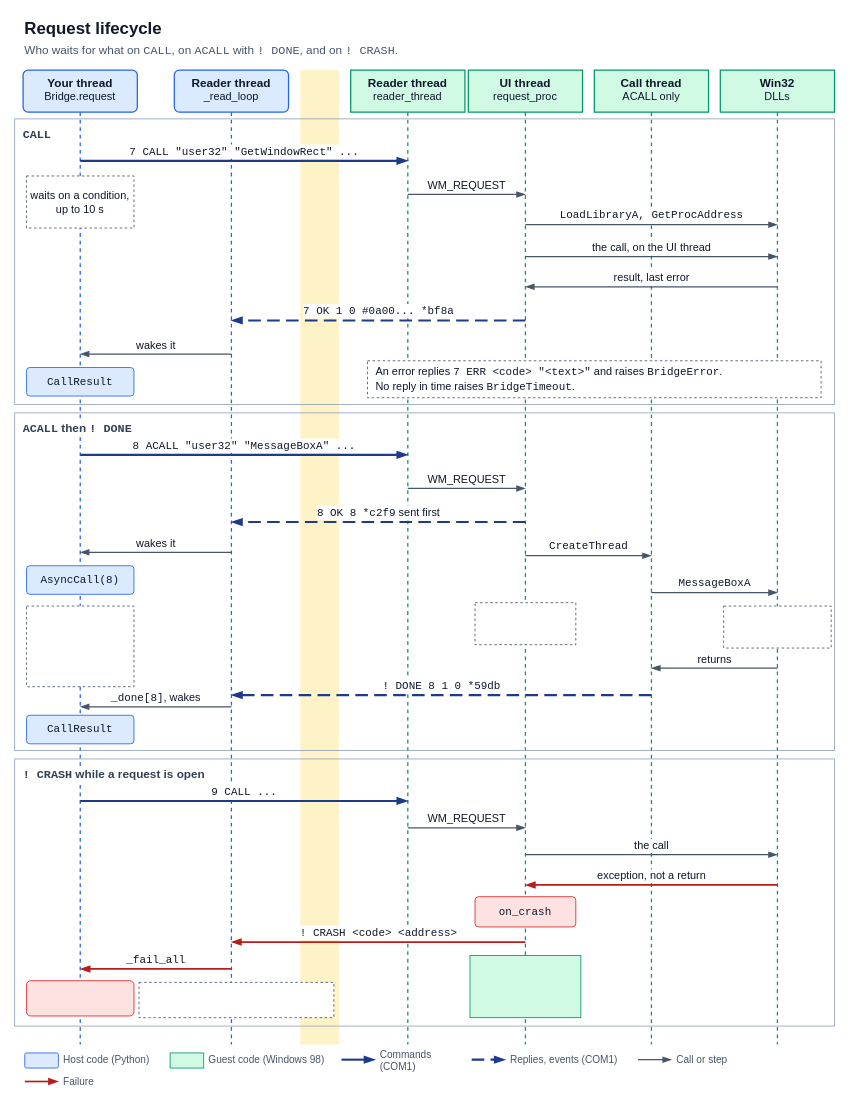
Some shapes in this 850 by 1105 pixel diagram are drawn without their labels. The centre of each missing label's shape, as x and y in pixels:
".done polls, .wait() blocks. The script carries on" belongs at point (80, 646).
"COM1" belongs at point (319, 557).
"free for more requests" belongs at point (525, 623).
"GuestCrashed raised" belongs at point (80, 998).
"may block for a long time" belongs at point (777, 626).
"Open AsyncCall.wait() calls are not failed, they time out" belongs at point (236, 1000).
"restarts itself, reopens COM1, ! HELLO every 3 s" belongs at point (525, 986).
